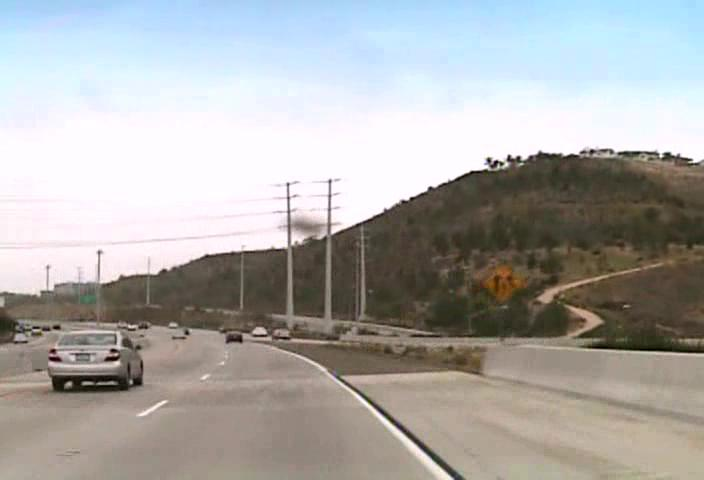addedLane: (481, 260, 524, 304)
